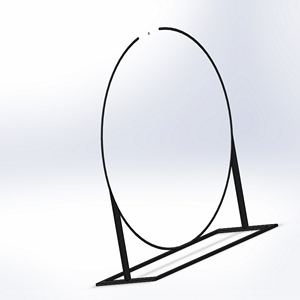circle: (94, 23, 281, 286)
